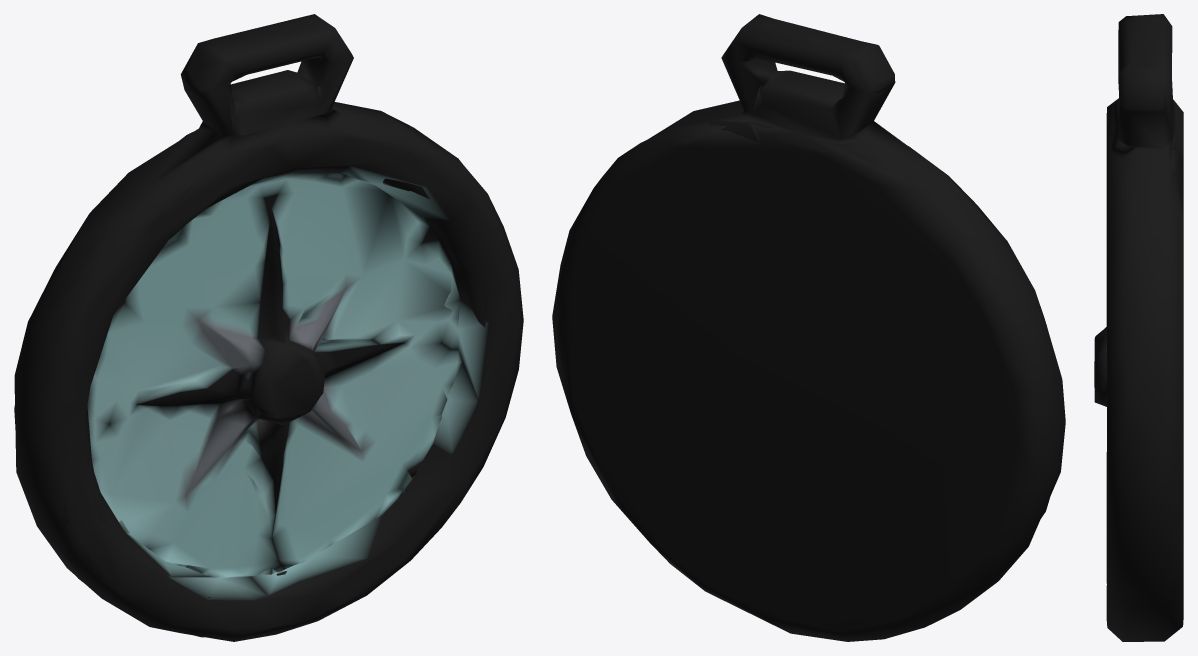
The model's file is gen3d-compass-lod0.glb.
3 views of the same model, side by side, from view 1: azimuth 30°, elevation 25°; view 2: azimuth 150°, elevation 25°; view 3: azimuth 270°, elevation 25° (orthographic). The views are drawn at different scales.
Parts seen in each view (by area): view 1: part_0; view 2: part_0; view 3: part_0.
Part boxes in pixels (x1,y1,x2,y2): part_0: (14,14,523,641); part_0: (552,14,1065,641); part_0: (1094,14,1183,641).
Bounding box in the file's own units: 0.8688 × 0.9969 × 0.1396.
